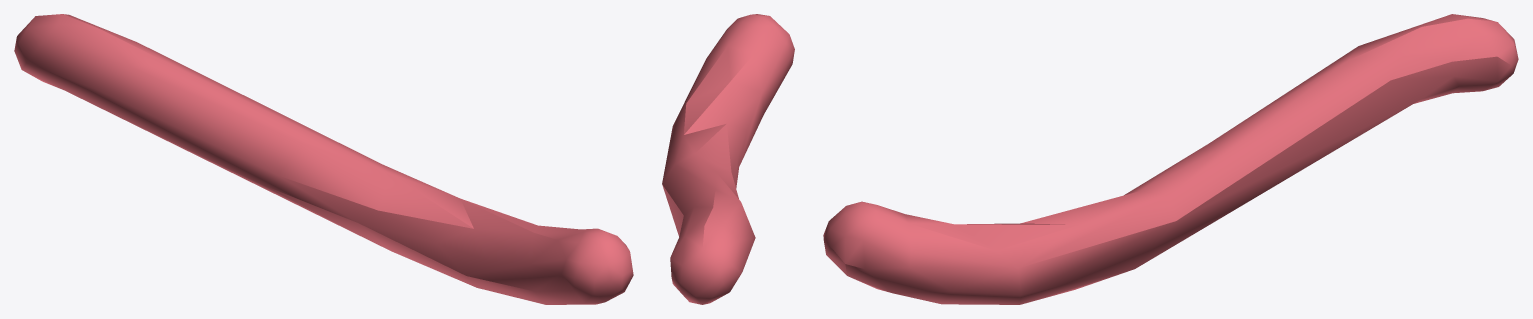
Rendered from fma50086_fj1713m.glb.
3 views of the same model, side by side, from view 1: azimuth 30°, elevation 25°; view 2: azimuth 150°, elevation 25°; view 3: azimuth 270°, elevation 25° (orthographic). The views are drawn at different scales.
Visible parts, largest first — view 1: FMA50086_FJ1713M; view 2: FMA50086_FJ1713M; view 3: FMA50086_FJ1713M.
Part boxes in pixels (x1,y1,x2,y2): FMA50086_FJ1713M: [14, 14, 633, 304]; FMA50086_FJ1713M: [662, 14, 794, 304]; FMA50086_FJ1713M: [823, 14, 1518, 304].
Bounding box in the file's own units: 0.00711 × 0.00368 × 0.0134.
